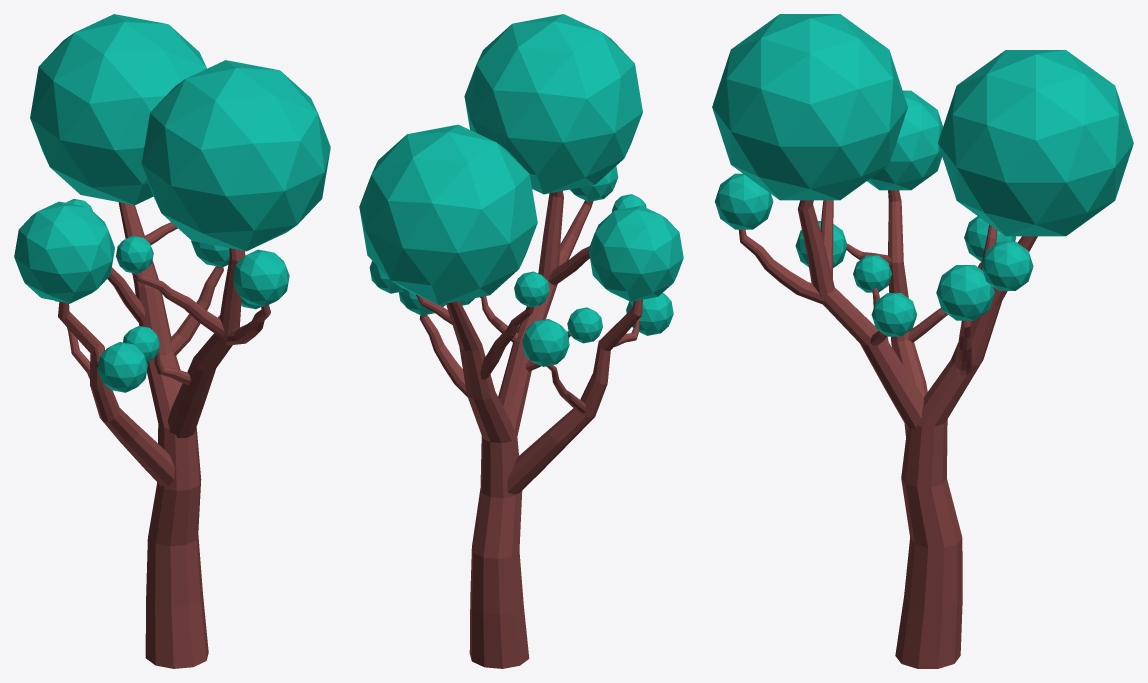
The model's file is Tree_1_Leaves.glb.
3 views of the same model, side by side, from view 1: azimuth 30°, elevation 25°; view 2: azimuth 150°, elevation 25°; view 3: azimuth 270°, elevation 25° (orthographic). The views are drawn at different scales.
Parts seen in each view (by area): view 1: Leaves, Tree1; view 2: Leaves, Tree1; view 3: Leaves, Tree1.
Boxes of the visible parts, x1,y1,x2,y2 form: Leaves: [14, 14, 330, 392]; Tree1: [58, 202, 270, 668]; Leaves: [359, 14, 683, 366]; Tree1: [416, 191, 642, 668]; Leaves: [712, 14, 1133, 336]; Tree1: [738, 190, 1037, 668].
Size of the model in its own units: 4.76 by 10.77 by 6.46.
